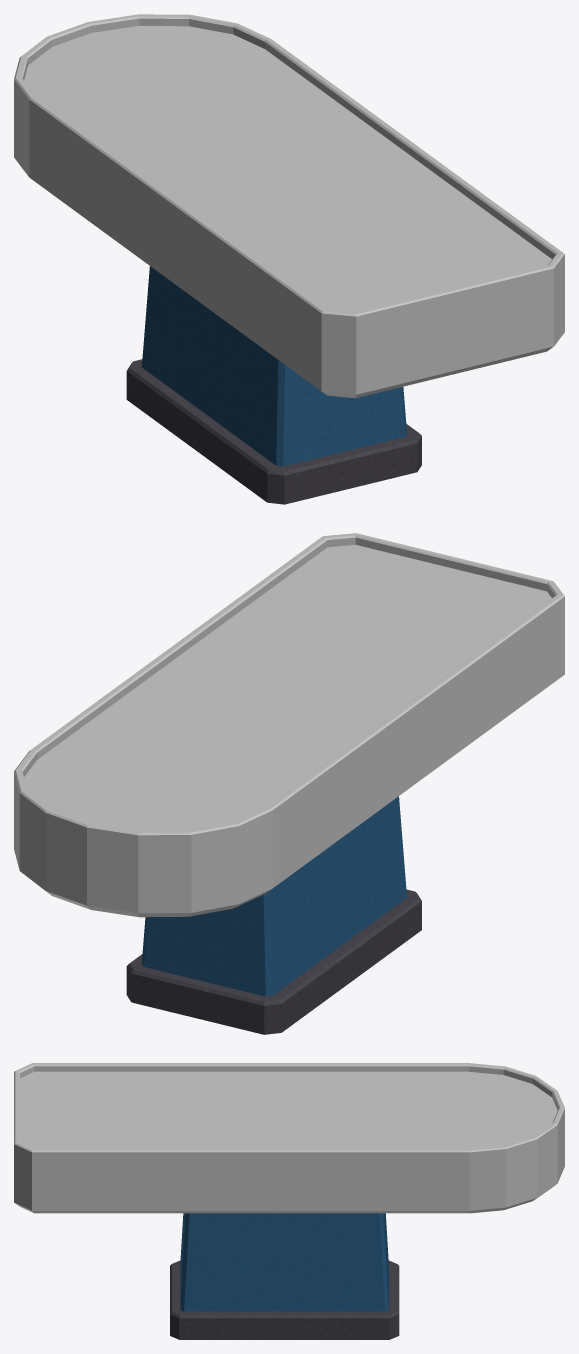
Rendered from OperatingTable.fbx.
3 renders of one model, top to bottom at view 1: azimuth 30°, elevation 25°; view 2: azimuth 150°, elevation 25°; view 3: azimuth 270°, elevation 25°, orthographic. The views are drawn at different scales.
Visible parts, largest first — view 1: Table; view 2: Table; view 3: Table.
Part boxes in pixels (left/top/right/bottom): Table: left=14, top=14, right=564, bottom=504; Table: left=14, top=533, right=564, bottom=1034; Table: left=14, top=1063, right=564, bottom=1339.
Bounding box in the file's own units: 1.14 × 3 × 1.23.
